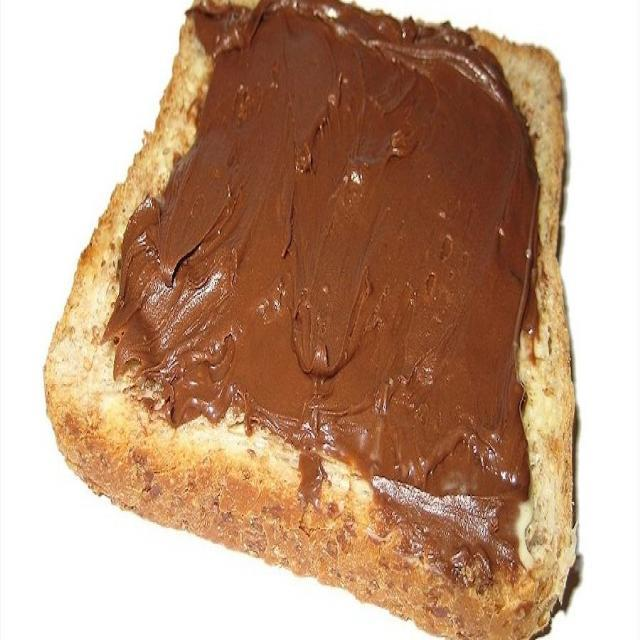Spread: (120, 3, 531, 499)
